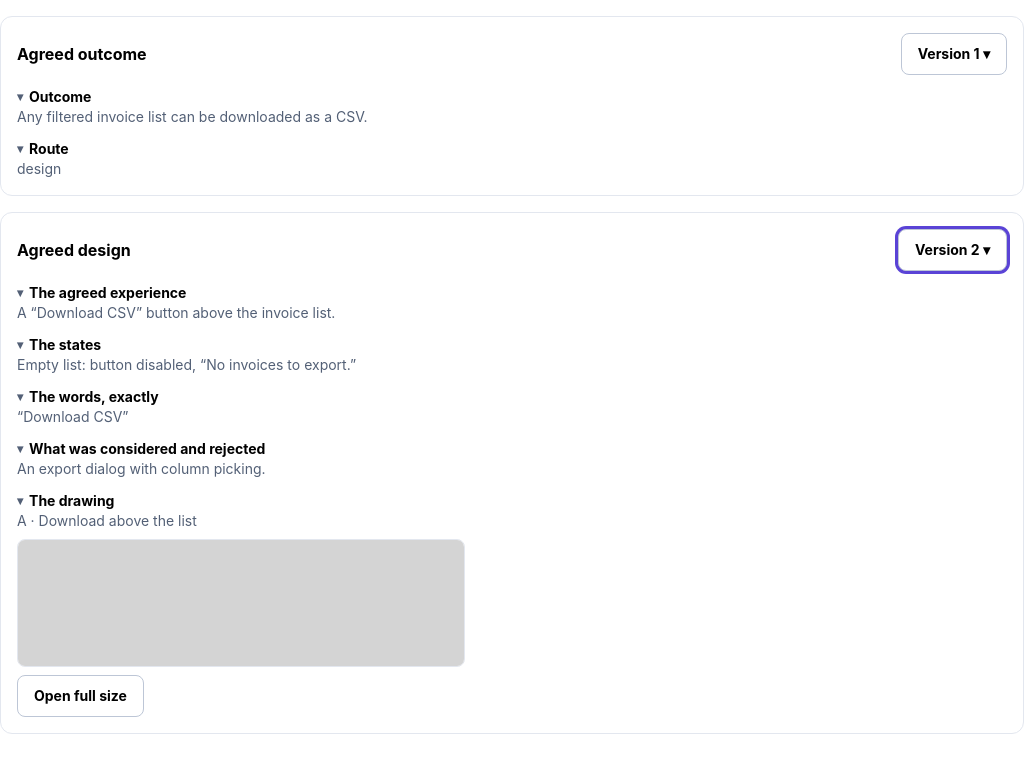
Test: lists every version newest first and shows an earlier one until Show current
Check: the text "A “Download CSV” button above the invoice list." is shown, box [17,304,335,321]
Press Enter
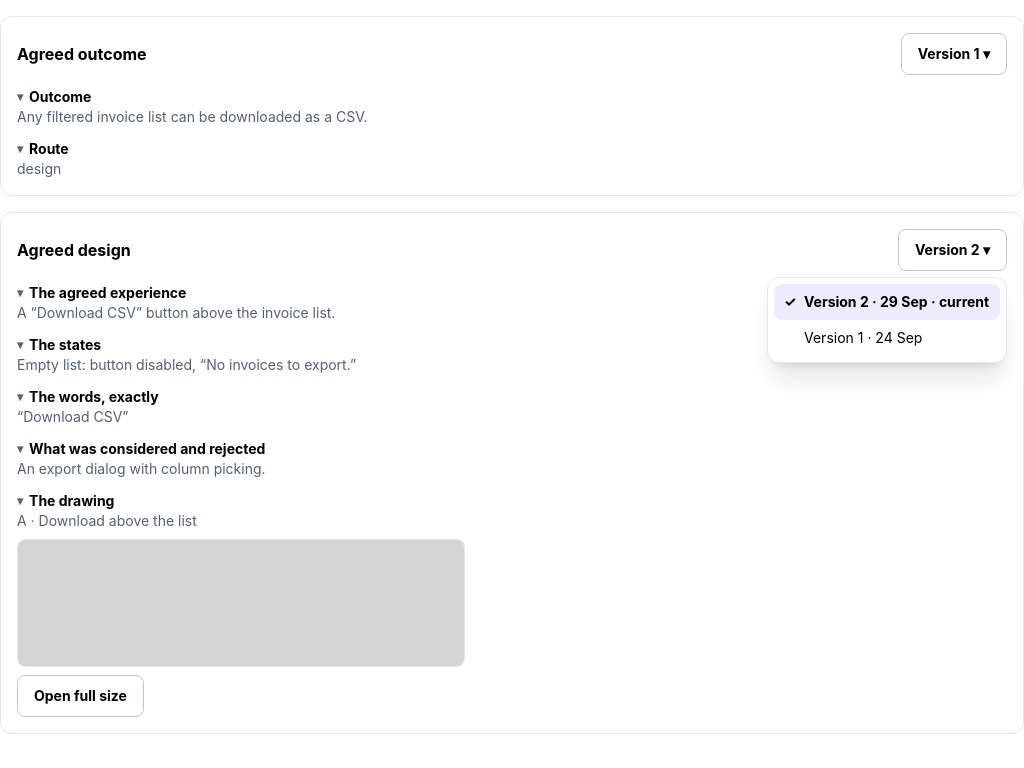
Check: the menu item "✓ Version 2 · 29 Sep · current" is shown, box [774,284,1000,320]
Press Arrowdown Enter
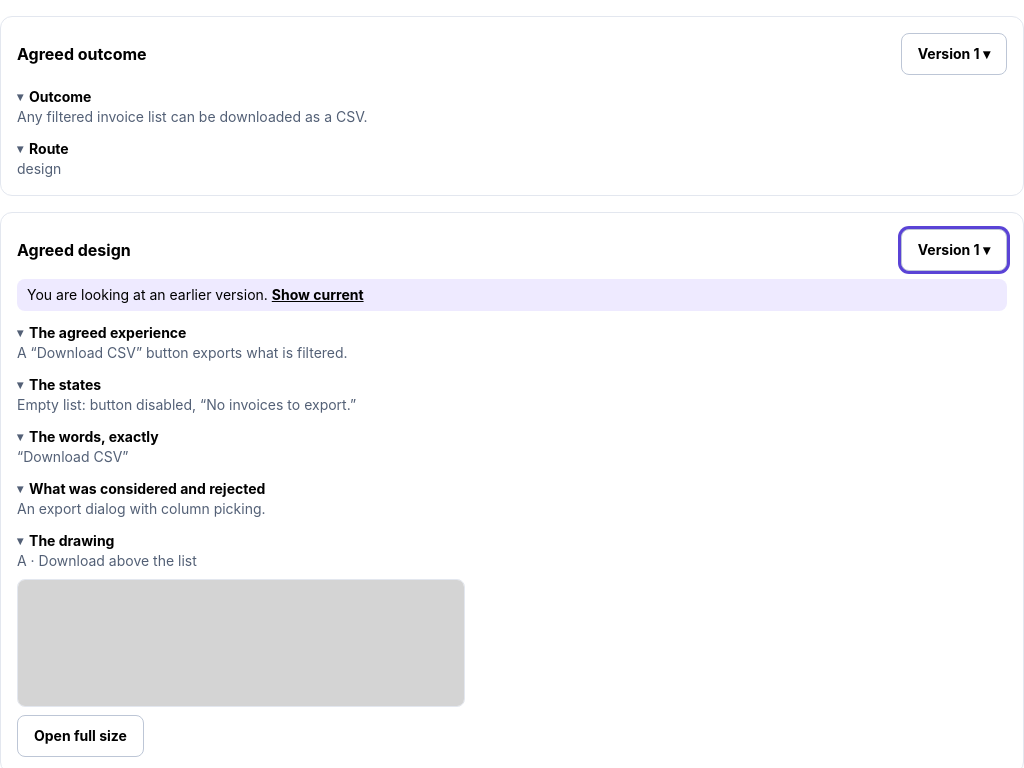
Check: the menu is gone
Check: the text "A “Download CSV” button exports what is filtered." is shown, box [17,344,348,361]
Check: the text "You are looking at an earlier version." is shown, box [27,286,268,303]
Click the button "Show current" at (318, 295), box [272,285,364,305]
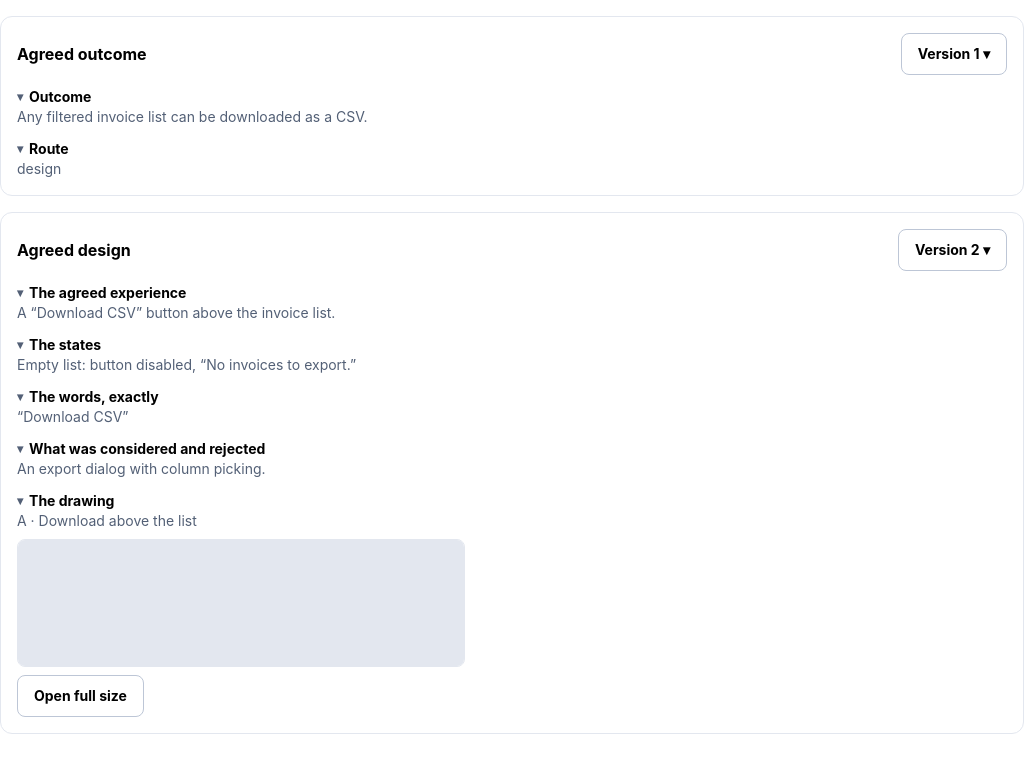
Check: the text "A “Download CSV” button above the invoice list." is shown, box [17,304,335,321]
Check: the text "You are looking at an earlier version." is gone
